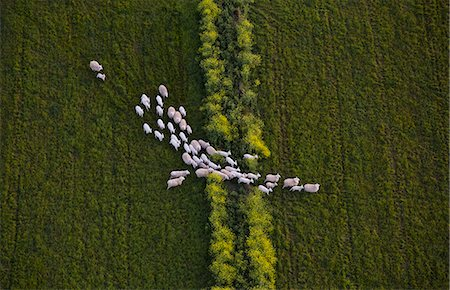sheep: (159, 84, 177, 104), (168, 168, 195, 180), (182, 150, 195, 170), (139, 95, 152, 112), (194, 165, 212, 177), (133, 104, 148, 118), (203, 159, 222, 170), (304, 181, 320, 193), (168, 135, 180, 151), (283, 177, 300, 188), (246, 171, 263, 182), (241, 153, 261, 162), (224, 156, 240, 167), (215, 149, 234, 158), (259, 185, 275, 195), (167, 178, 183, 188), (89, 58, 102, 70), (155, 105, 166, 119), (238, 176, 255, 185), (197, 139, 212, 149), (142, 122, 153, 135), (167, 107, 177, 121), (265, 174, 281, 182), (224, 165, 240, 173), (172, 109, 180, 124), (154, 129, 164, 141), (178, 118, 187, 131), (178, 104, 187, 117), (96, 72, 107, 82), (288, 184, 303, 191), (265, 181, 280, 188), (180, 130, 188, 143), (156, 95, 164, 107), (182, 141, 189, 154), (158, 118, 164, 131), (185, 125, 192, 136)
